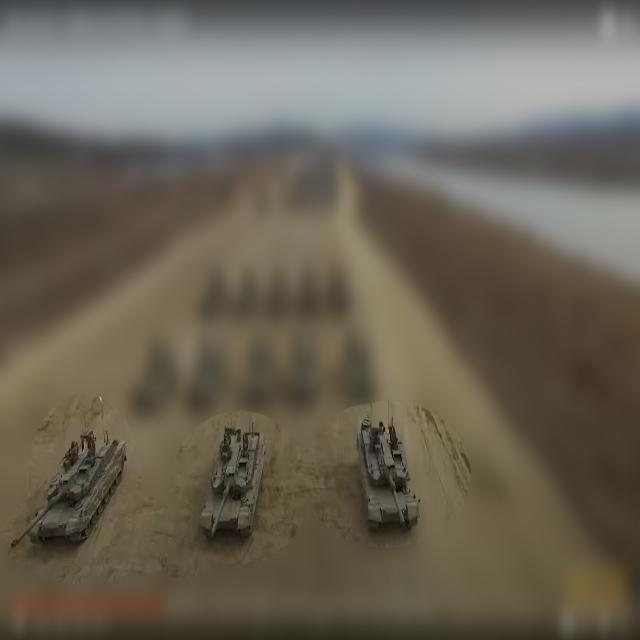tank: (11, 429, 128, 555), (355, 417, 425, 532), (205, 418, 268, 542)
